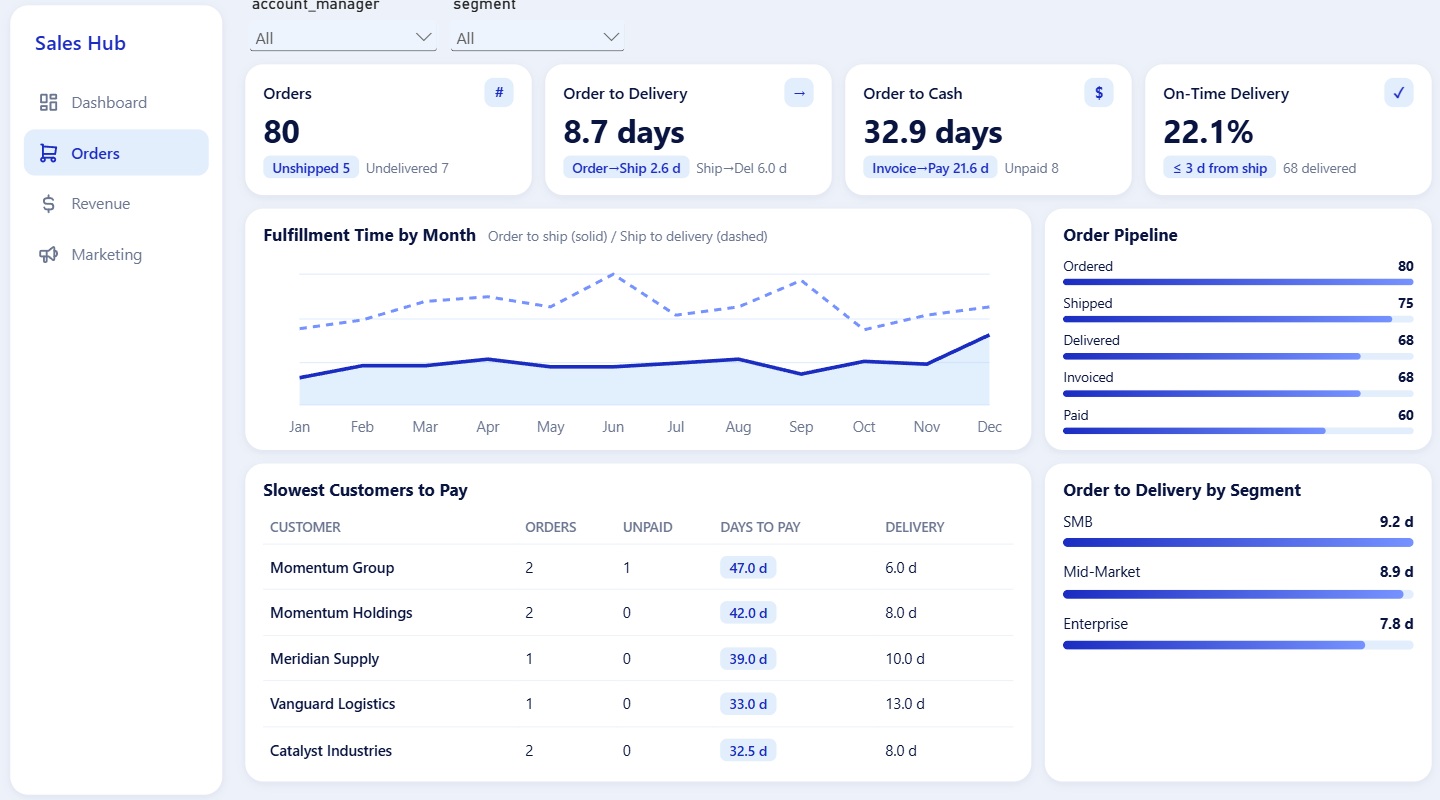

The dashboard page shown, as its layout file describes it:
{"tool":"powerbi","page":{"name":"Orders","canvas":[1280,720],"ordinal":1},"visuals":[{"type":"htmlContent443BE3AD55E043BF878BED274D3A6855","fields":{"content":["dashboard.HTML Page 2"]},"box":[208,52,1072,668],"z":0},{"type":"htmlContent443BE3AD55E043BF878BED274D3A6855","fields":{"content":["dashboard.HTML Sidebar Orders"]},"box":[0,0,208.4,719.6],"z":500},{"type":"actionButton","box":[23.1,76.3,162.3,39.9],"z":1000},{"type":"actionButton","box":[23.1,167.6,162.3,39.9],"z":3000},{"type":"actionButton","box":[23.1,207.5,162.3,39.9],"z":4000},{"type":"slicer","fields":{"Values":["dim_customers.account_manager"]},"box":[216.2,0,178.2,52.5],"z":4001},{"type":"slicer","fields":{"Values":["dim_customers.segment"]},"box":[394.4,0,166.4,52.5],"z":4002}]}

Visuals, with their boxes in screenshot pixels (x1, y1, x2, y2), scaled from the page's 1280x720 canvas onto the 1440x800 screenshot:
htmlContent443BE3AD55E043BF878BED274D3A6855 - dashboard.HTML Page 2: <box>234,58,1439,799</box>
htmlContent443BE3AD55E043BF878BED274D3A6855 - dashboard.HTML Sidebar Orders: <box>0,0,234,799</box>
actionButton: <box>26,85,209,129</box>
actionButton: <box>26,186,209,231</box>
actionButton: <box>26,231,209,275</box>
slicer - dim_customers.account_manager: <box>243,0,444,58</box>
slicer - dim_customers.segment: <box>444,0,631,58</box>
